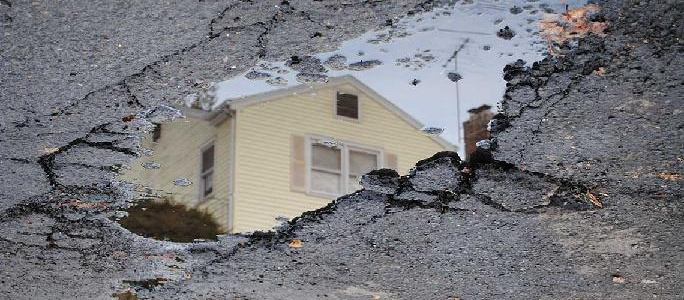pothole: (29, 0, 606, 260)
